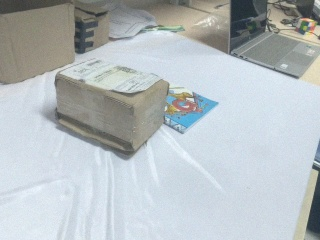book: (163, 88, 219, 135)
box: (55, 58, 169, 158), (1, 1, 77, 85), (72, 1, 111, 55)
